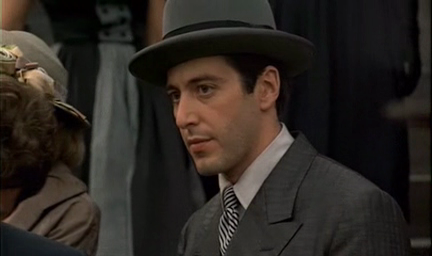cu: (1, 1, 432, 256)
face: (167, 64, 243, 176)
person: (127, 1, 414, 256), (1, 29, 102, 256), (1, 74, 92, 256)
